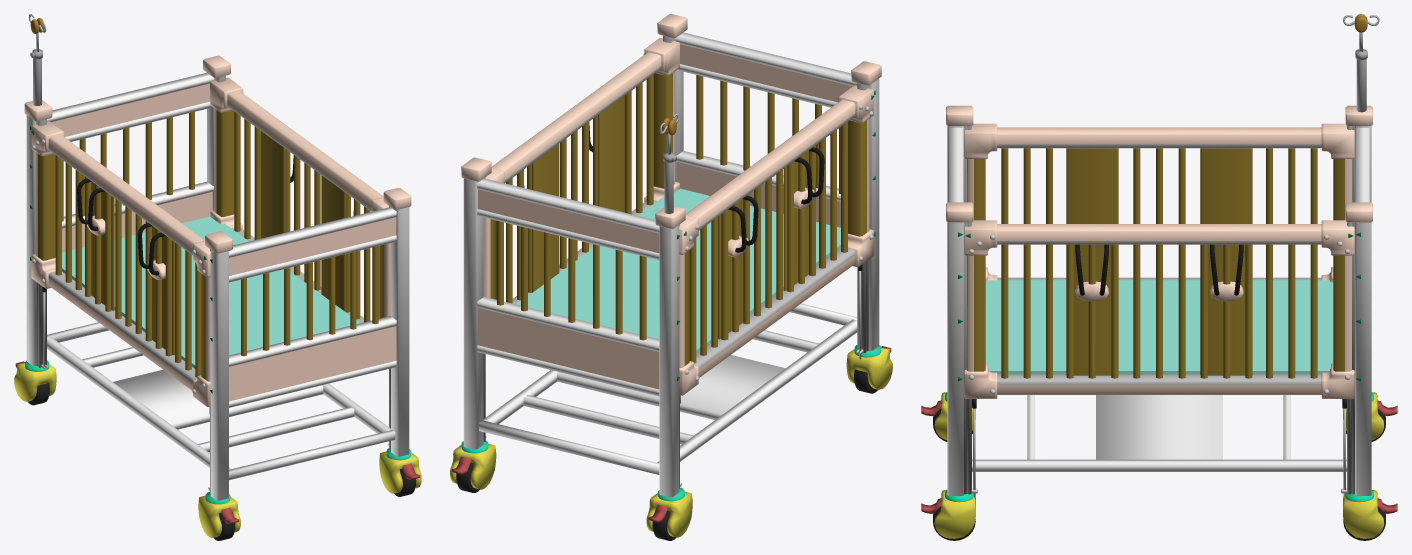
The model's file is Children_bed.FBX.
3 renders of one model, left to right at view 1: azimuth 30°, elevation 25°; view 2: azimuth 150°, elevation 25°; view 3: azimuth 270°, elevation 25°, orthographic. The views are drawn at different scales.
Parts seen in each view (by area): view 1: Object033, Object035, Object034; view 2: Object033, Object035, Object034; view 3: Object033, Object034, Object035.
Boxes of the visible parts, left/top/right/bottom form: Object033: left=14, top=14, right=421, bottom=540; Object035: left=31, top=121, right=210, bottom=406; Object034: left=210, top=77, right=390, bottom=322; Object033: left=450, top=14, right=892, bottom=540; Object035: left=679, top=85, right=874, bottom=395; Object034: left=483, top=38, right=679, bottom=304; Object033: left=921, top=14, right=1397, bottom=540; Object034: left=964, top=220, right=1354, bottom=408; Object035: left=964, top=123, right=1354, bottom=282.
Size of what is drawn, in the model's own units: 1227 by 2163 by 2193.
